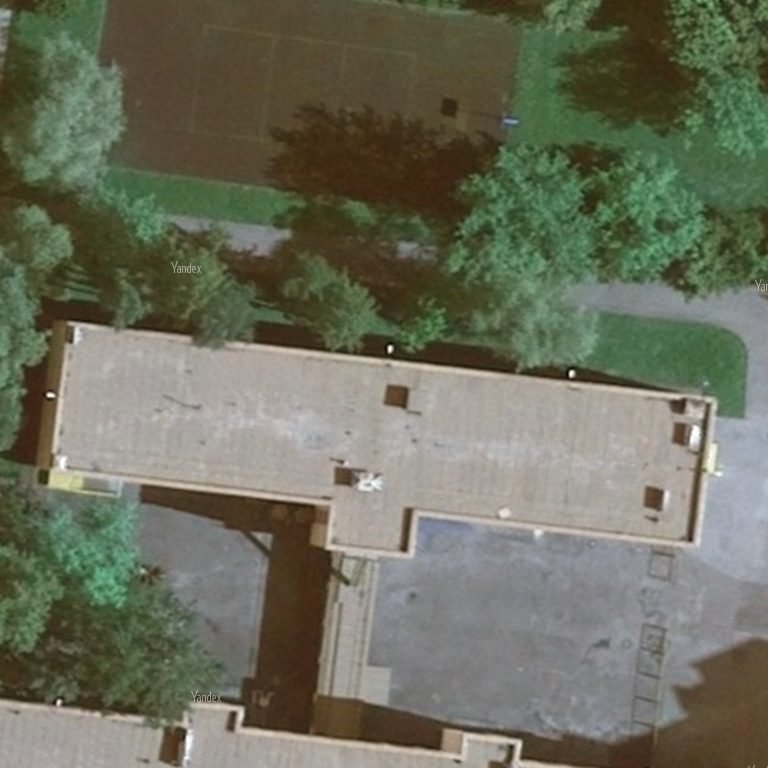basket_court: (79, 3, 531, 218)
